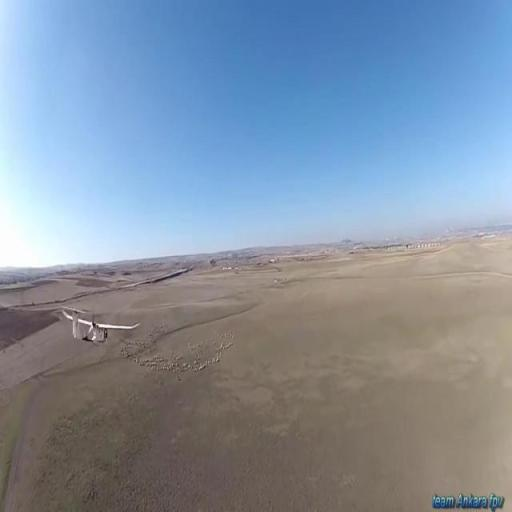uav: (62, 304, 140, 346)
